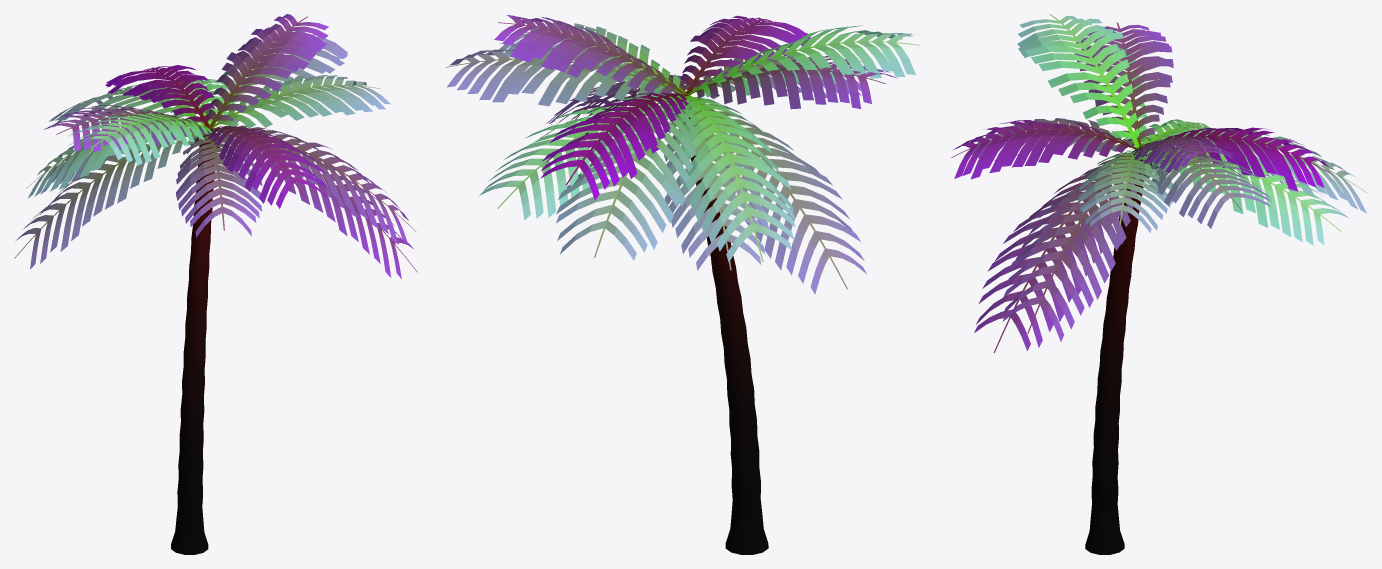
File: Palm1.fbx
3 views of the same model, side by side, from view 1: azimuth 30°, elevation 25°; view 2: azimuth 150°, elevation 25°; view 3: azimuth 270°, elevation 25° (orthographic). The views are drawn at different scales.
Parts seen in each view (by area): view 1: Palm1; view 2: Palm1; view 3: Palm1.
Boxes of the visible parts, box(x1,y1,x2,y2) form: Palm1: box(14, 14, 417, 554); Palm1: box(446, 15, 919, 554); Palm1: box(951, 14, 1366, 554).
Bounding box in the file's own units: 8.83 × 11.07 × 8.81.
